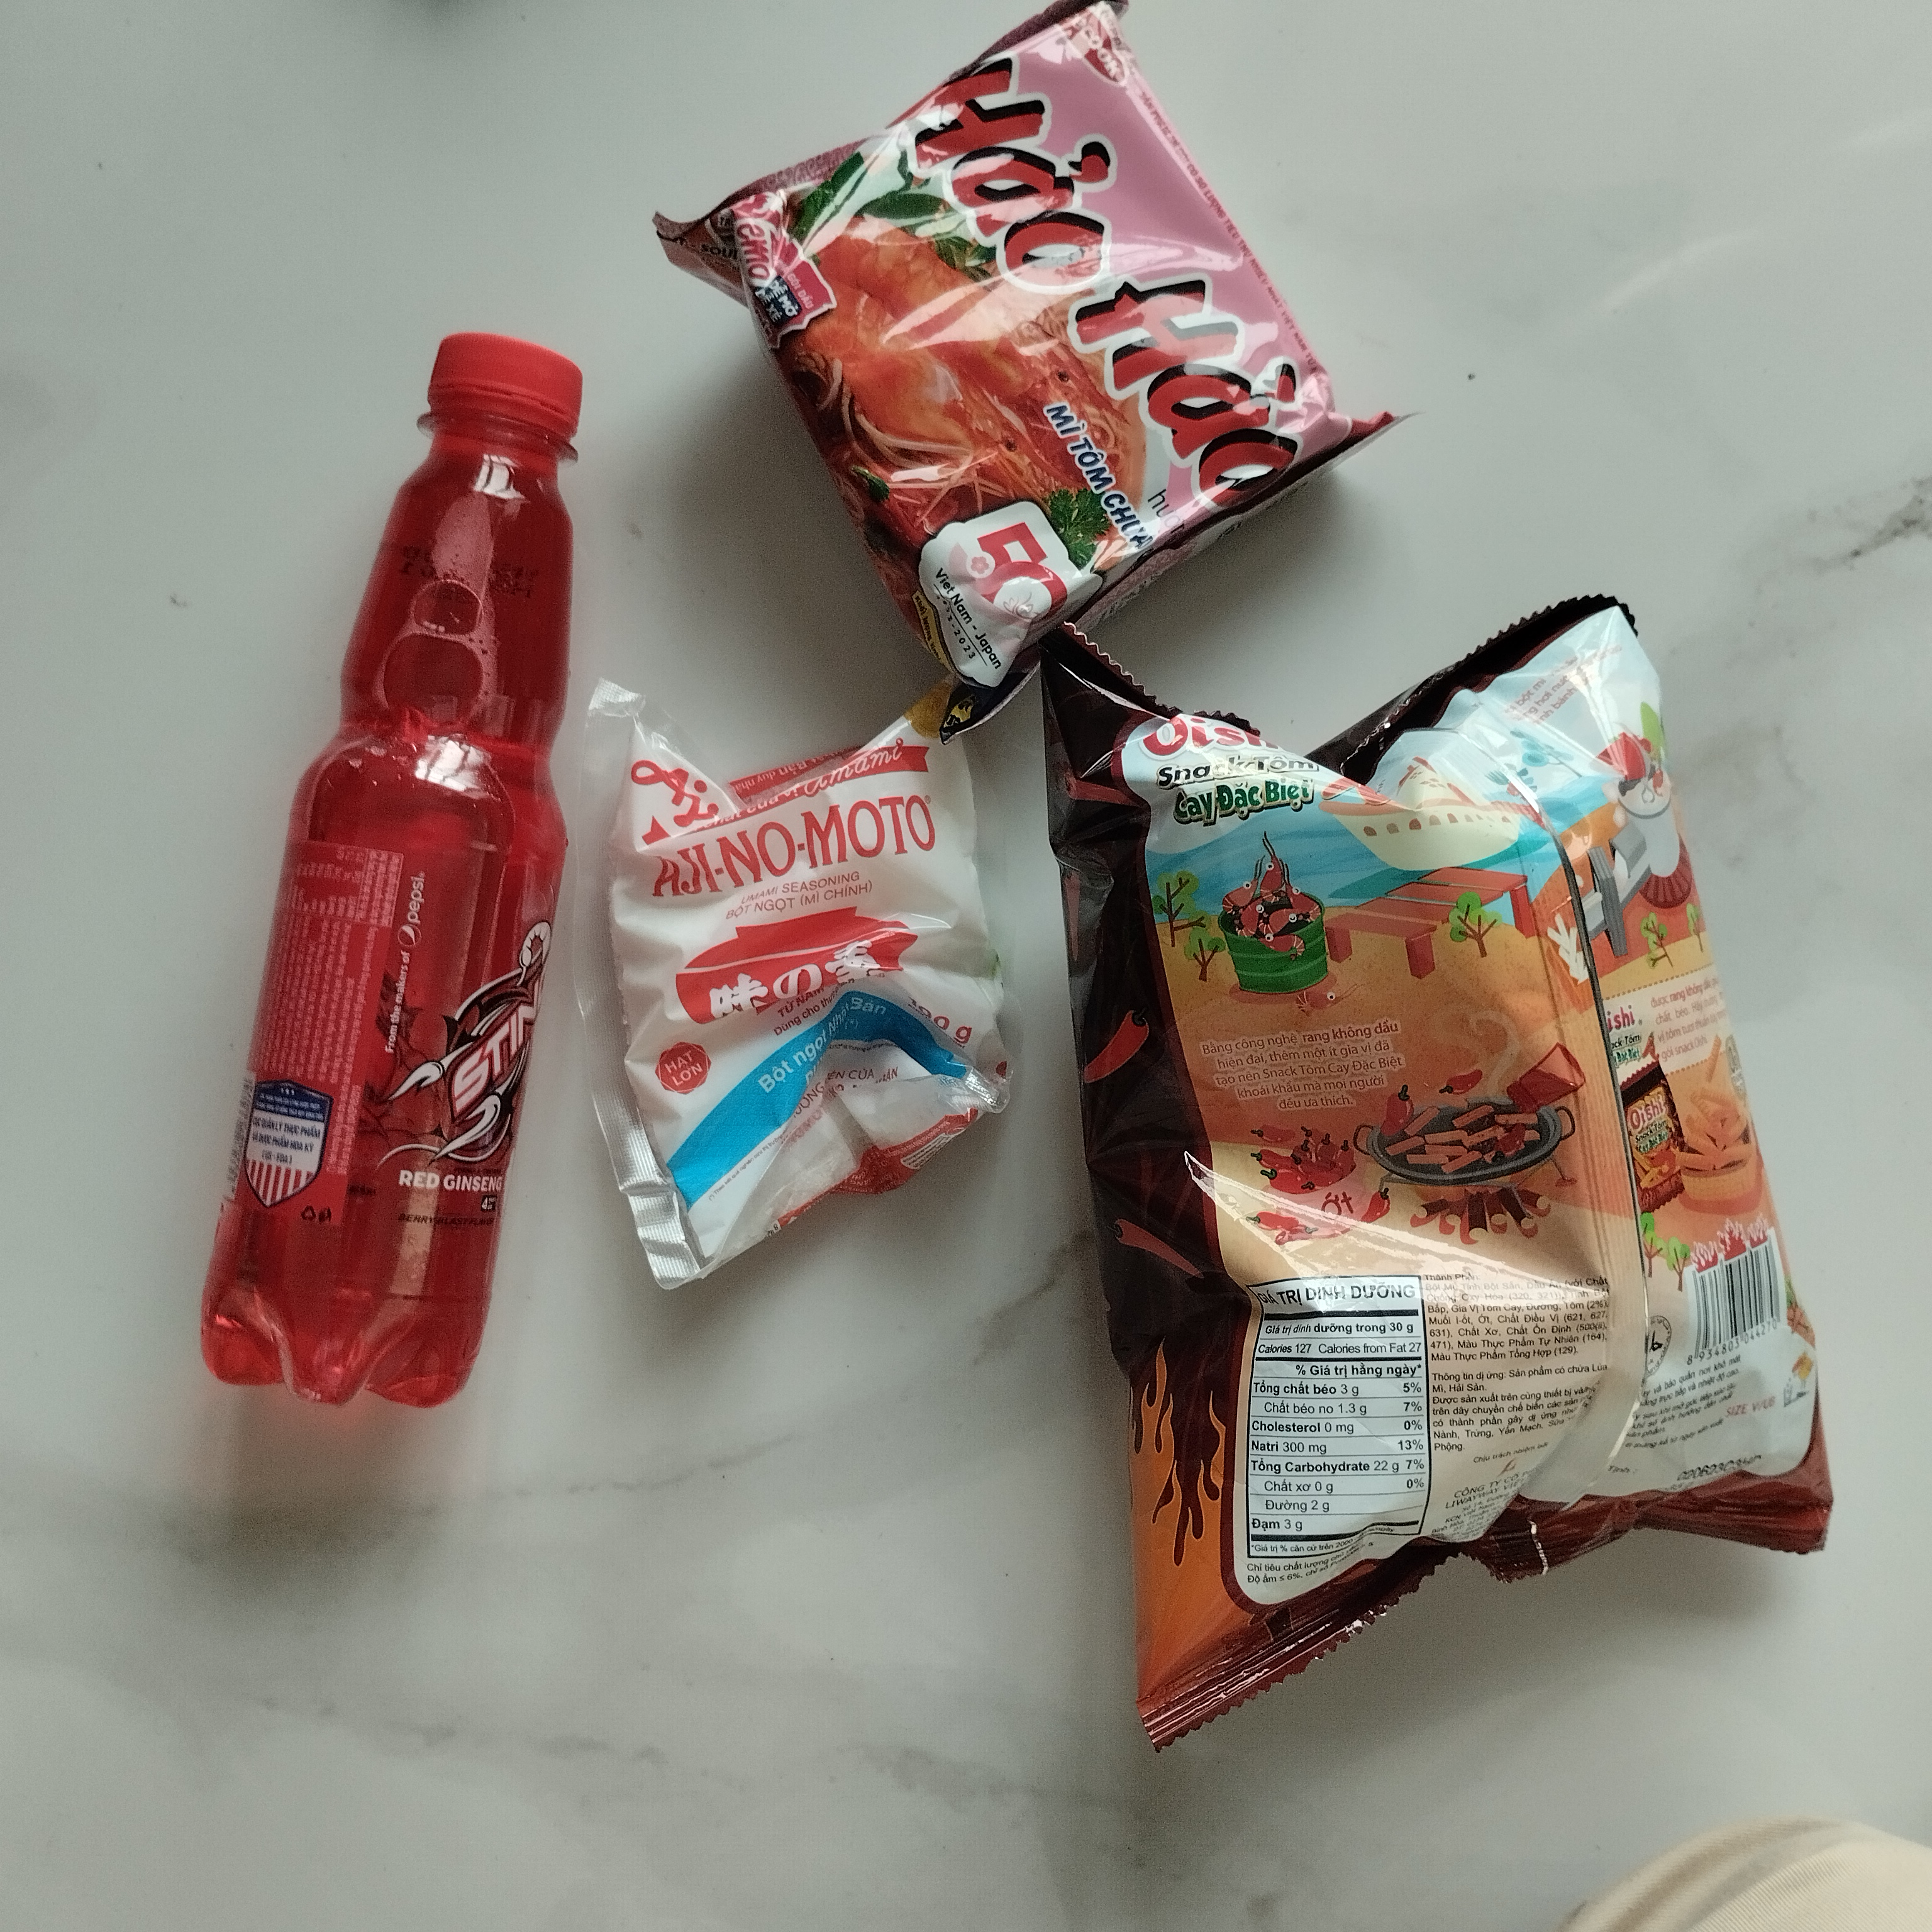Haohao: (633, 7, 1412, 750)
Oishi_Cay: (1023, 586, 1856, 1753)
Salt: (568, 672, 1026, 1295)
Sting: (196, 338, 594, 1415)
